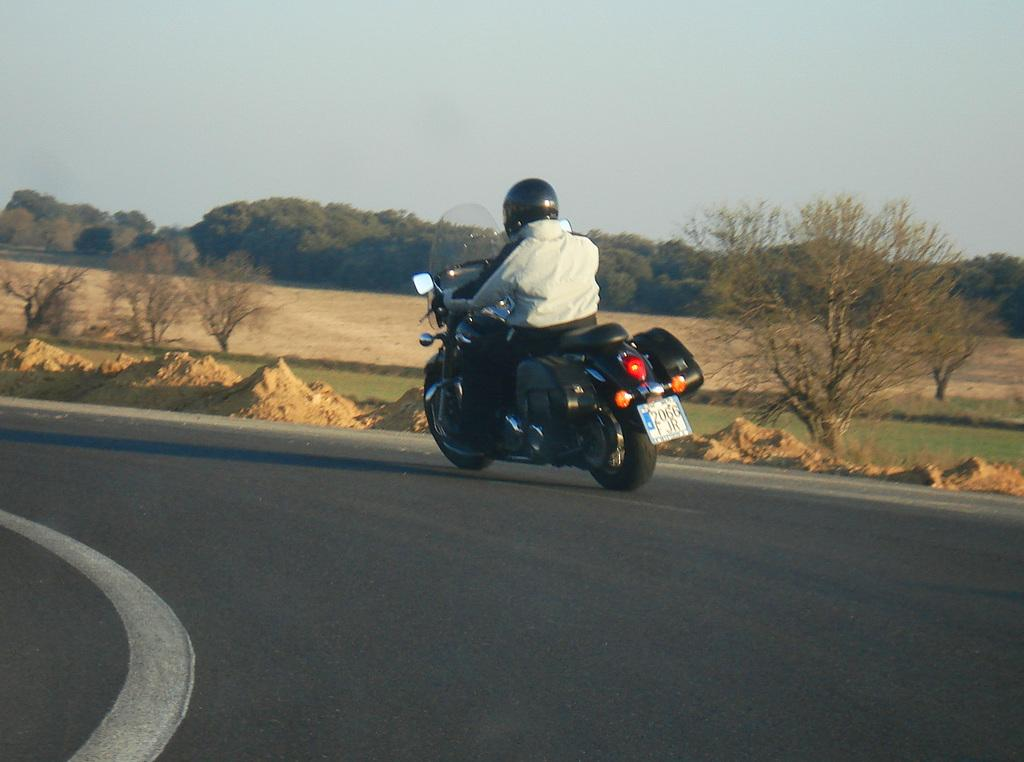helmet: (502, 178, 559, 242)
